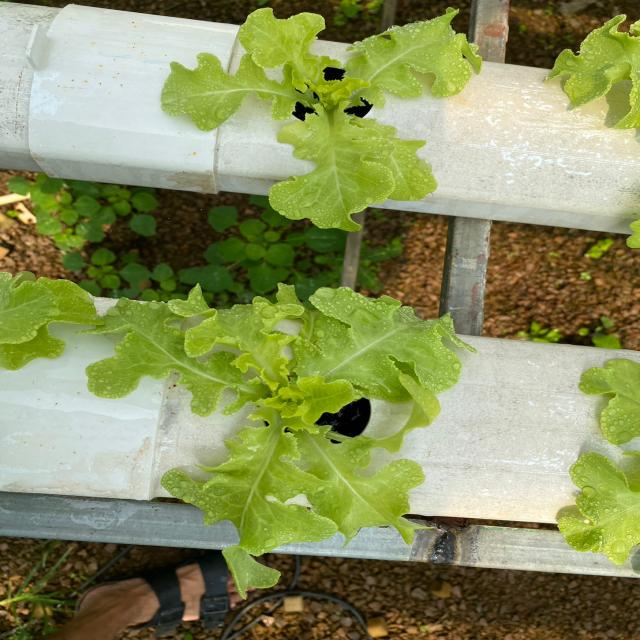Lettuce-Not-Ready-to-Harvest: (77, 278, 492, 607), (153, 0, 508, 254)
